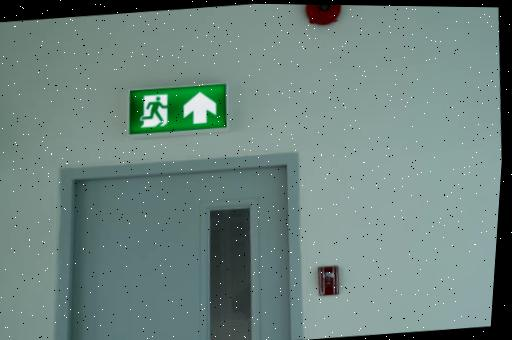emergency_exit: (128, 83, 227, 135)
